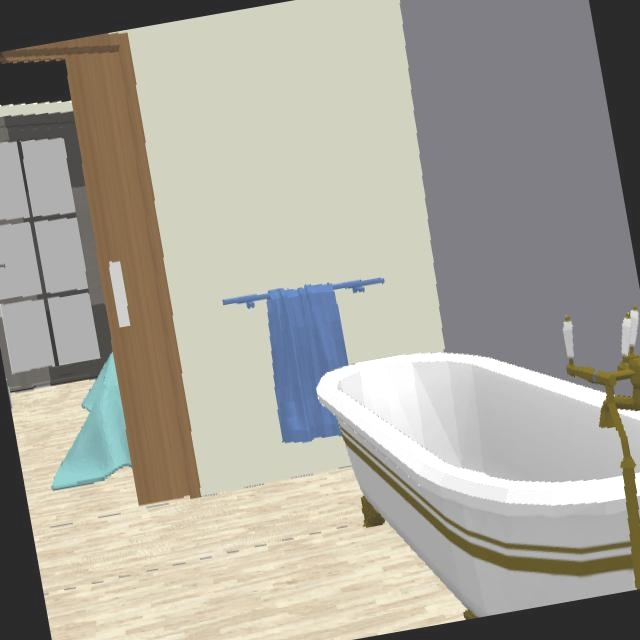bathtube: (317, 352, 634, 615)
bed: (51, 354, 131, 487)
